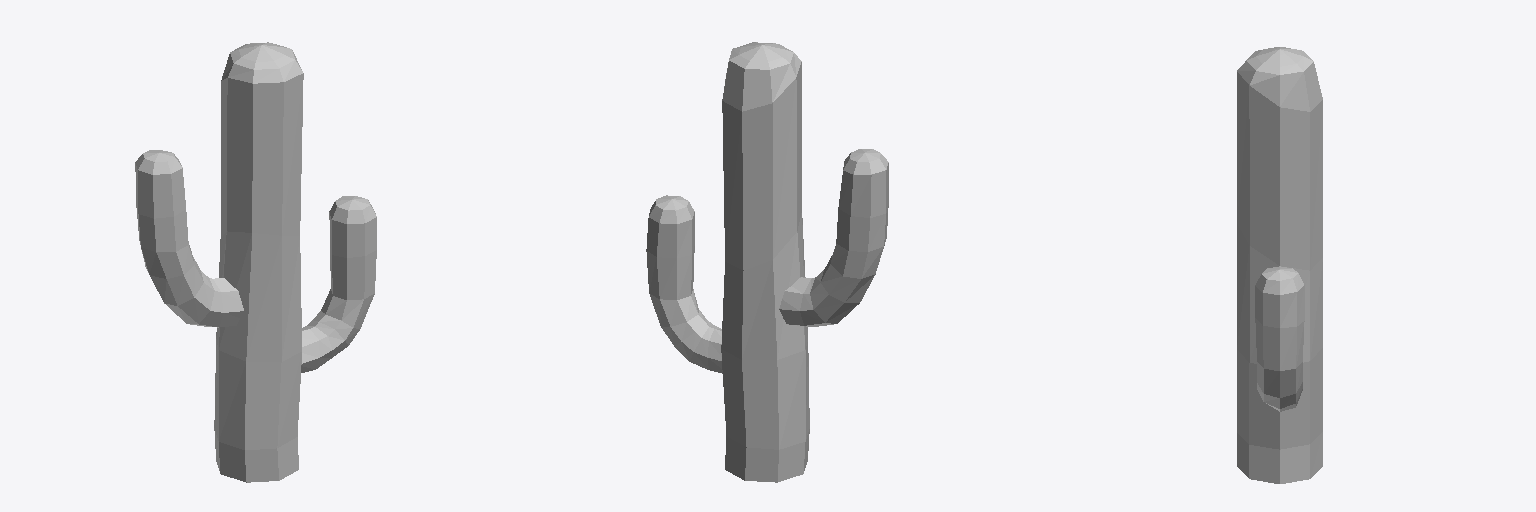
The model's file is cactus.obj.
3 views of the same model, side by side, from view 1: azimuth 30°, elevation 25°; view 2: azimuth 150°, elevation 25°; view 3: azimuth 270°, elevation 25° (orthographic).
Parts seen in each view (by area): view 1: Circle, Circle.001, Circle.002; view 2: Circle, Circle.001, Circle.002; view 3: Circle, Circle.002.
Boxes of the visible parts, <box> form: Circle: <box>214,42,303,482</box>; Circle.001: <box>135,150,243,327</box>; Circle.002: <box>301,196,376,372</box>; Circle: <box>721,42,809,482</box>; Circle.001: <box>779,149,888,326</box>; Circle.002: <box>646,195,722,373</box>; Circle: <box>1237,47,1322,483</box>; Circle.002: <box>1255,266,1304,411</box>.
Size of the model in its own units: 6.35 by 10.74 by 2.